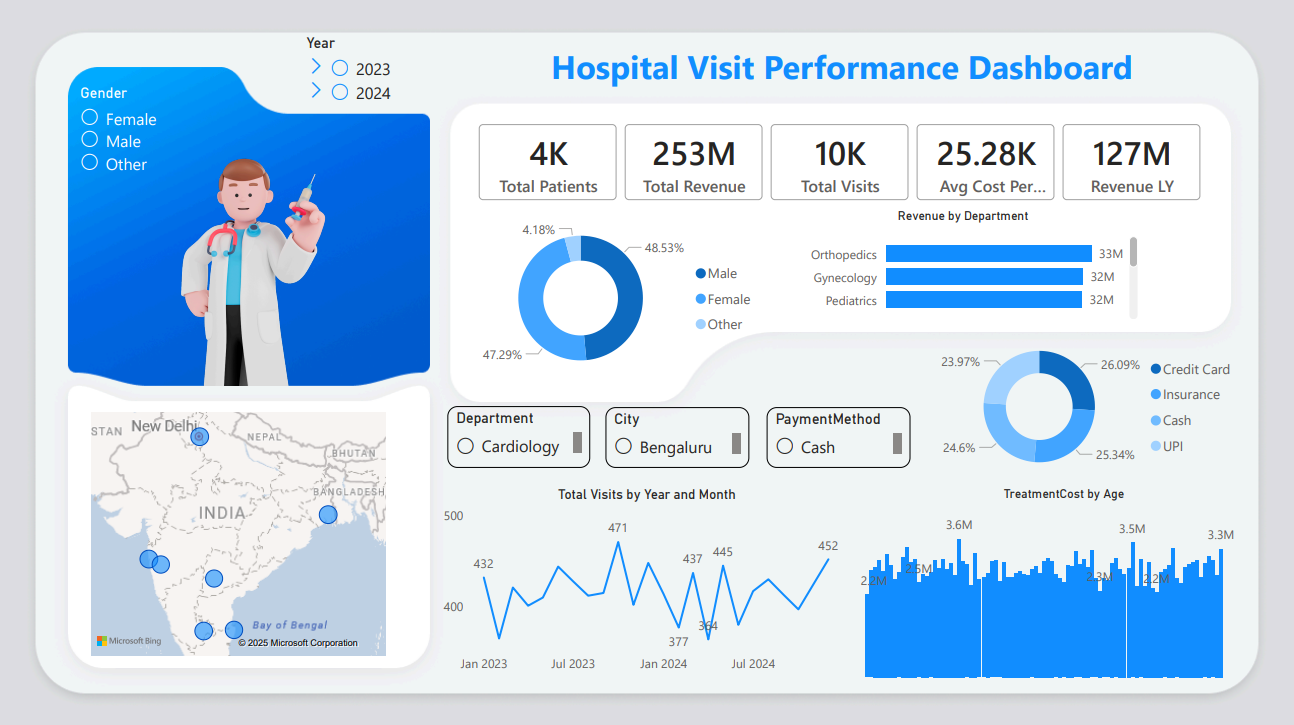

What the dashboard file says about the page in this screenshot:
{"tool":"powerbi","page":{"name":"Dashboard","canvas":[1280,720],"ordinal":0},"visuals":[{"type":"image","box":[95.3,144.8,300.4,235.3],"z":0},{"type":"cardVisual","fields":{"Data":["hospital_visits_10k.Total Patients","hospital_visits_10k.Total Revenue","hospital_visits_10k.Total Visits","hospital_visits_10k.Average Cost Per Visit","hospital_visits_10k.Revenue LY"]},"box":[457.2,105.4,750.6,109.2],"z":1000},{"type":"textbox","box":[476.3,38.1,712.5,67.3],"z":2000},{"type":"lineChart","fields":{"Category":["Calendar.Date.Variation.Date Hierarchy.Year","Calendar.Date.Variation.Date Hierarchy.Month"],"Y":["hospital_visits_10k.Total Visits"]},"box":[434.3,480.2,411.4,193],"z":3000},{"type":"donutChart","fields":{"Y":["hospital_visits_10k.Total Visits"],"Category":["hospital_visits_10k.Gender"]},"box":[457.2,118.1,299.7,350.5],"z":4000},{"type":"donutChart","fields":{"Y":["hospital_visits_10k.Total Revenue"],"Category":["hospital_visits_10k.PaymentMethod"]},"box":[912.5,321.2,317.5,158.8],"z":5000},{"type":"clusteredBarChart","fields":{"Y":["hospital_visits_10k.Revenue"],"Category":["hospital_visits_10k.Department"]},"box":[774.5,206.3,354.7,112.2],"z":6000},{"type":"map","fields":{"Category":["hospital_visits_10k.City"],"Size":["hospital_visits_10k.Total Revenue"]},"box":[86.9,400.5,300.4,250.9],"z":7000},{"type":"columnChart","title":"TreatmentCost by Age","fields":{"Category":["hospital_visits_10k.Age"],"Y":["Sum(hospital_visits_10k.TreatmentCost)"]},"box":[845.7,480.2,411.4,193],"z":8000},{"type":"listSlicer","fields":{"Values":["Calendar.Date.Variation.Date Hierarchy.Year","Calendar.Date.Variation.Date Hierarchy.Month"]},"box":[299.2,33.8,176.1,73.6],"z":9000},{"type":"listSlicer","fields":{"Values":["hospital_visits_10k.Gender"]},"box":[76,83.2,121.9,94.1],"z":10000},{"type":"listSlicer","fields":{"Values":["hospital_visits_10k.Department"]},"box":[442.5,400,141.2,61.2],"z":11000},{"type":"listSlicer","fields":{"Values":["hospital_visits_10k.City"]},"box":[598.8,401.2,142.5,60],"z":12000},{"type":"listSlicer","fields":{"Values":["hospital_visits_10k.PaymentMethod"]},"box":[757.5,401.2,142.5,60],"z":13000}]}

Visuals, with their boxes in screenshot pixels (x1, y1, x2, y2), scaled from the page's 1280x720 canvas onto the 1294x725 screenshot:
image: <bbox>96, 146, 400, 383</bbox>
cardVisual - hospital_visits_10k.Total Patients x hospital_visits_10k.Total Revenue: <bbox>462, 106, 1221, 216</bbox>
textbox: <bbox>482, 38, 1202, 106</bbox>
lineChart - Calendar.Date.Variation.Date Hierarchy.Year x Calendar.Date.Variation.Date Hierarchy.Month: <bbox>439, 484, 855, 678</bbox>
donutChart - hospital_visits_10k.Total Visits x hospital_visits_10k.Gender: <bbox>462, 119, 765, 472</bbox>
donutChart - hospital_visits_10k.Total Revenue x hospital_visits_10k.PaymentMethod: <bbox>922, 323, 1243, 483</bbox>
clusteredBarChart - hospital_visits_10k.Revenue x hospital_visits_10k.Department: <bbox>783, 208, 1142, 321</bbox>
map - hospital_visits_10k.City x hospital_visits_10k.Total Revenue: <bbox>88, 403, 392, 656</bbox>
"TreatmentCost by Age" columnChart: <bbox>855, 484, 1271, 678</bbox>
listSlicer - Calendar.Date.Variation.Date Hierarchy.Year x Calendar.Date.Variation.Date Hierarchy.Month: <bbox>302, 34, 480, 108</bbox>
listSlicer - hospital_visits_10k.Gender: <bbox>77, 84, 200, 179</bbox>
listSlicer - hospital_visits_10k.Department: <bbox>447, 403, 590, 464</bbox>
listSlicer - hospital_visits_10k.City: <bbox>605, 404, 749, 464</bbox>
listSlicer - hospital_visits_10k.PaymentMethod: <bbox>766, 404, 910, 464</bbox>
